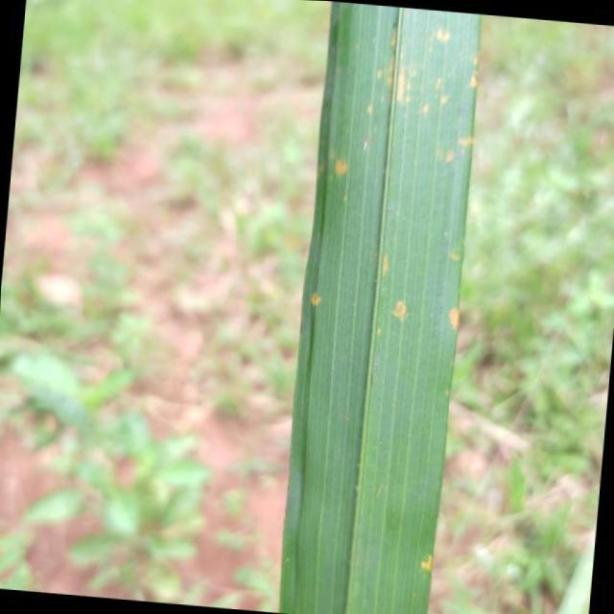Kalium: (283, 7, 478, 614)
